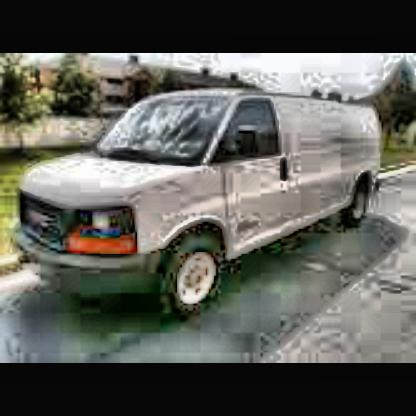GMC Savana Van 2012: (13, 93, 383, 308)
